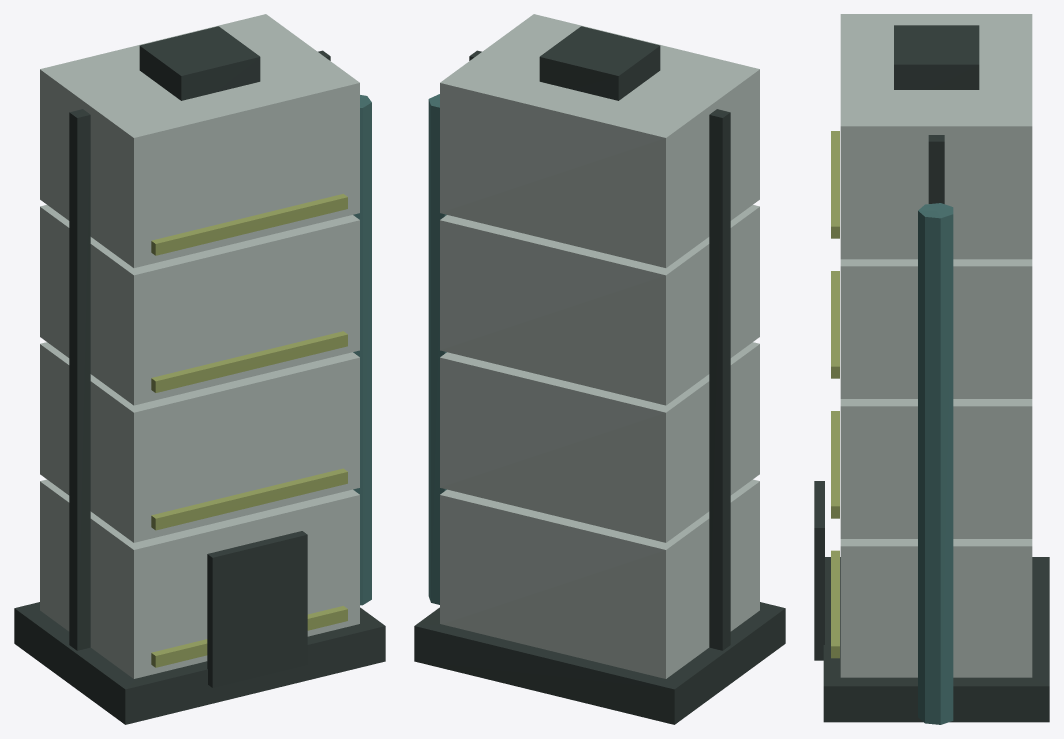
File: Vertical-Farm.glb
The picture shows the model from 3 angles, left to right: view 1: azimuth 30°, elevation 25°; view 2: azimuth 150°, elevation 25°; view 3: azimuth 270°, elevation 25°; orthographic projection.
Visible parts, largest first — view 1: wind-pump-static-vertical-farm-panel-mat, wind-pump-static-vertical-farm-frame-mat, wind-pump-static-vertical-farm-light-mat, wind-pump-static-vertical-farm-riser-mat; view 2: wind-pump-static-vertical-farm-panel-mat, wind-pump-static-vertical-farm-frame-mat, wind-pump-static-vertical-farm-riser-mat; view 3: wind-pump-static-vertical-farm-panel-mat, wind-pump-static-vertical-farm-frame-mat, wind-pump-static-vertical-farm-riser-mat, wind-pump-static-vertical-farm-light-mat.
Boxes of the visible parts, x1,y1,x2,y2 form: wind-pump-static-vertical-farm-panel-mat: (40,14,359,678); wind-pump-static-vertical-farm-frame-mat: (14,26,385,724); wind-pump-static-vertical-farm-light-mat: (151,194,347,667); wind-pump-static-vertical-farm-riser-mat: (353,95,371,605); wind-pump-static-vertical-farm-panel-mat: (440,14,759,678); wind-pump-static-vertical-farm-frame-mat: (414,26,785,724); wind-pump-static-vertical-farm-riser-mat: (428,94,446,604); wind-pump-static-vertical-farm-panel-mat: (840,14,1032,677); wind-pump-static-vertical-farm-frame-mat: (814,25,1049,722); wind-pump-static-vertical-farm-riser-mat: (918,203,953,724); wind-pump-static-vertical-farm-light-mat: (831,131,839,658).
Bounding box in the file's own units: 1.32 × 2.54 × 0.885.
